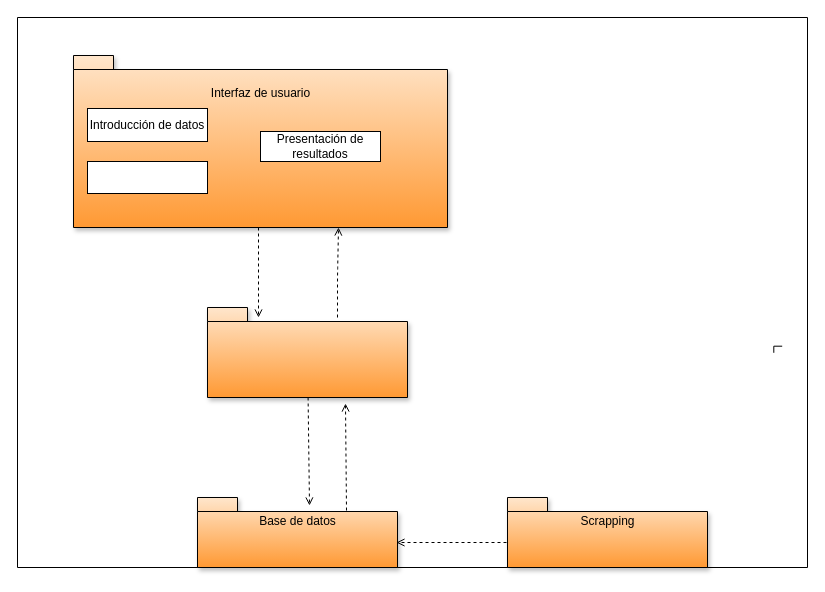
Image size: 825x592. Some labels were removed from this diagram. Here are the shapes that lost their labels. From the top down, the centre of each, then its label:
At pixel 147 177: "Gestión de cookies".
At pixel 308 353: "Recomendador".
